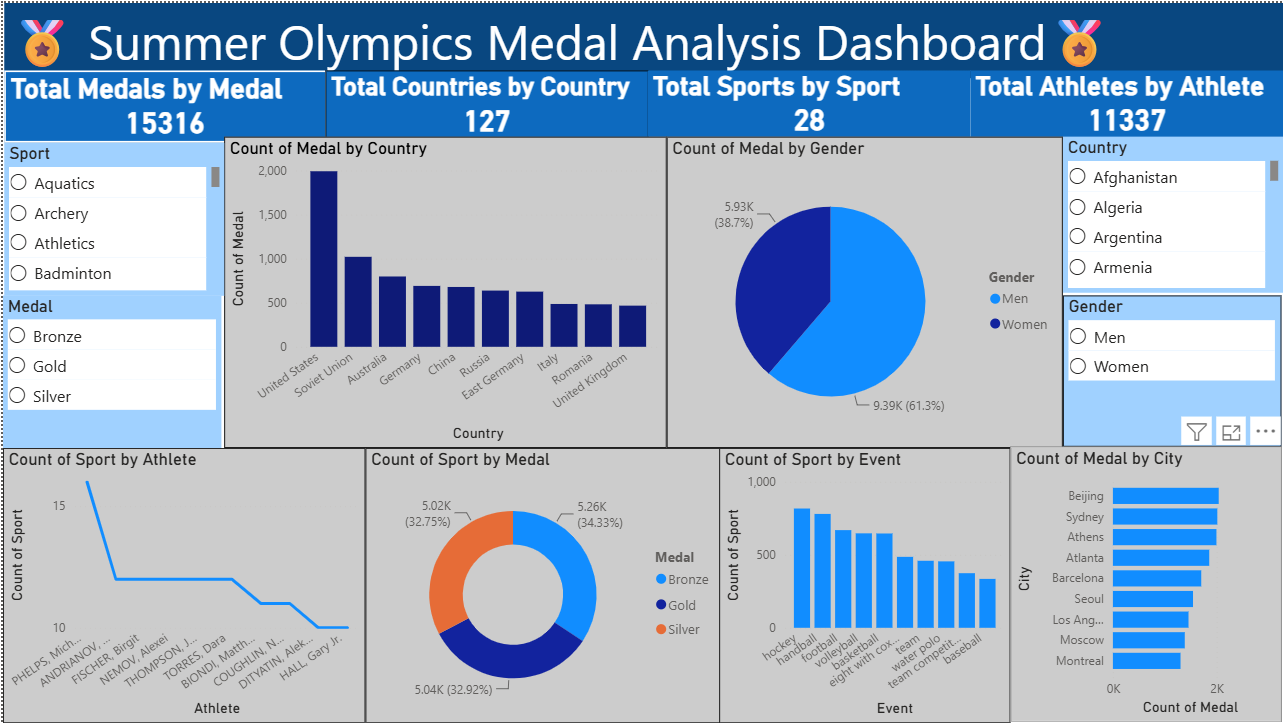

The page's visual inventory and layout, read from the dashboard file:
{"tool":"powerbi","page":{"name":"Page 1","canvas":[1280,720],"ordinal":0},"visuals":[{"type":"textbox","box":[1,0,1279,75],"z":0},{"type":"kpi","fields":{"Indicator":["Clean_data.Total Medals"],"TrendLine":["Clean_data.Medal"]},"box":[0,67.3,321.6,66],"z":1000},{"type":"kpi","fields":{"Indicator":["Clean_data.Total Countries"],"TrendLine":["Clean_data.Country"]},"box":[321.6,67.3,342.4,66],"z":2000},{"type":"kpi","fields":{"Indicator":["Clean_data.Total Sports"],"TrendLine":["Clean_data.Sport"]},"box":[664,67.3,303.3,66],"z":3000},{"type":"kpi","fields":{"Indicator":["Clean_data.Total Athletes"],"TrendLine":["Clean_data.Athlete"]},"box":[967.3,67.3,313,66],"z":4000},{"type":"columnChart","fields":{"Category":["Clean_data.Country"],"Y":["CountNonNull(Clean_data.Medal)"]},"box":[218.6,132.9,445.7,311.4],"z":5000},{"type":"pieChart","fields":{"Y":["CountNonNull(Clean_data.Medal)"],"Category":["Clean_data.Gender"]},"box":[663.8,133.8,396.2,311.2],"z":6000},{"type":"listSlicer","fields":{"Values":["Clean_data.Gender"]},"box":[1060,292.5,218.8,151.2],"z":7000},{"type":"listSlicer","fields":{"Values":["Clean_data.Medal"]},"box":[0,292.5,218.8,152.5],"z":8000},{"type":"listSlicer","fields":{"Values":["Clean_data.Sport"]},"box":[1.2,133.3,217.7,159],"z":9000},{"type":"listSlicer","fields":{"Values":["Clean_data.Country"]},"box":[1060.2,134.5,220.1,156.5],"z":10000},{"type":"donutChart","fields":{"Category":["Clean_data.Medal"],"Y":["CountNonNull(Clean_data.Sport)"]},"box":[362.5,445,358.8,275],"z":11000},{"type":"lineChart","fields":{"Category":["Clean_data.Athlete"],"Y":["CountNonNull(Clean_data.Sport)"]},"box":[0,445,362.5,275],"z":12000},{"type":"columnChart","fields":{"Category":["Clean_data.Event"],"Y":["CountNonNull(Clean_data.Sport)"]},"box":[716.2,445,291.2,275],"z":13000},{"type":"clusteredBarChart","fields":{"Category":["Clean_data.City"],"Y":["CountNonNull(Clean_data.Medal)"]},"box":[1007.5,443.8,271.2,275],"z":14000}]}

Visuals, with their boxes in screenshot pixels (x1, y1, x2, y2), scaled from the page's 1280x720 canvas onto the 1283x723 screenshot:
textbox: detection(1, 0, 1282, 75)
kpi - Clean_data.Total Medals x Clean_data.Medal: detection(0, 68, 322, 134)
kpi - Clean_data.Total Countries x Clean_data.Country: detection(322, 68, 666, 134)
kpi - Clean_data.Total Sports x Clean_data.Sport: detection(666, 68, 970, 134)
kpi - Clean_data.Total Athletes x Clean_data.Athlete: detection(970, 68, 1282, 134)
columnChart - Clean_data.Country x CountNonNull(Clean_data.Medal): detection(219, 133, 666, 446)
pieChart - CountNonNull(Clean_data.Medal) x Clean_data.Gender: detection(665, 134, 1062, 447)
listSlicer - Clean_data.Gender: detection(1062, 294, 1282, 446)
listSlicer - Clean_data.Medal: detection(0, 294, 219, 447)
listSlicer - Clean_data.Sport: detection(1, 134, 219, 294)
listSlicer - Clean_data.Country: detection(1063, 135, 1282, 292)
donutChart - Clean_data.Medal x CountNonNull(Clean_data.Sport): detection(363, 447, 723, 722)
lineChart - Clean_data.Athlete x CountNonNull(Clean_data.Sport): detection(0, 447, 363, 722)
columnChart - Clean_data.Event x CountNonNull(Clean_data.Sport): detection(718, 447, 1010, 722)
clusteredBarChart - Clean_data.City x CountNonNull(Clean_data.Medal): detection(1010, 446, 1282, 722)
